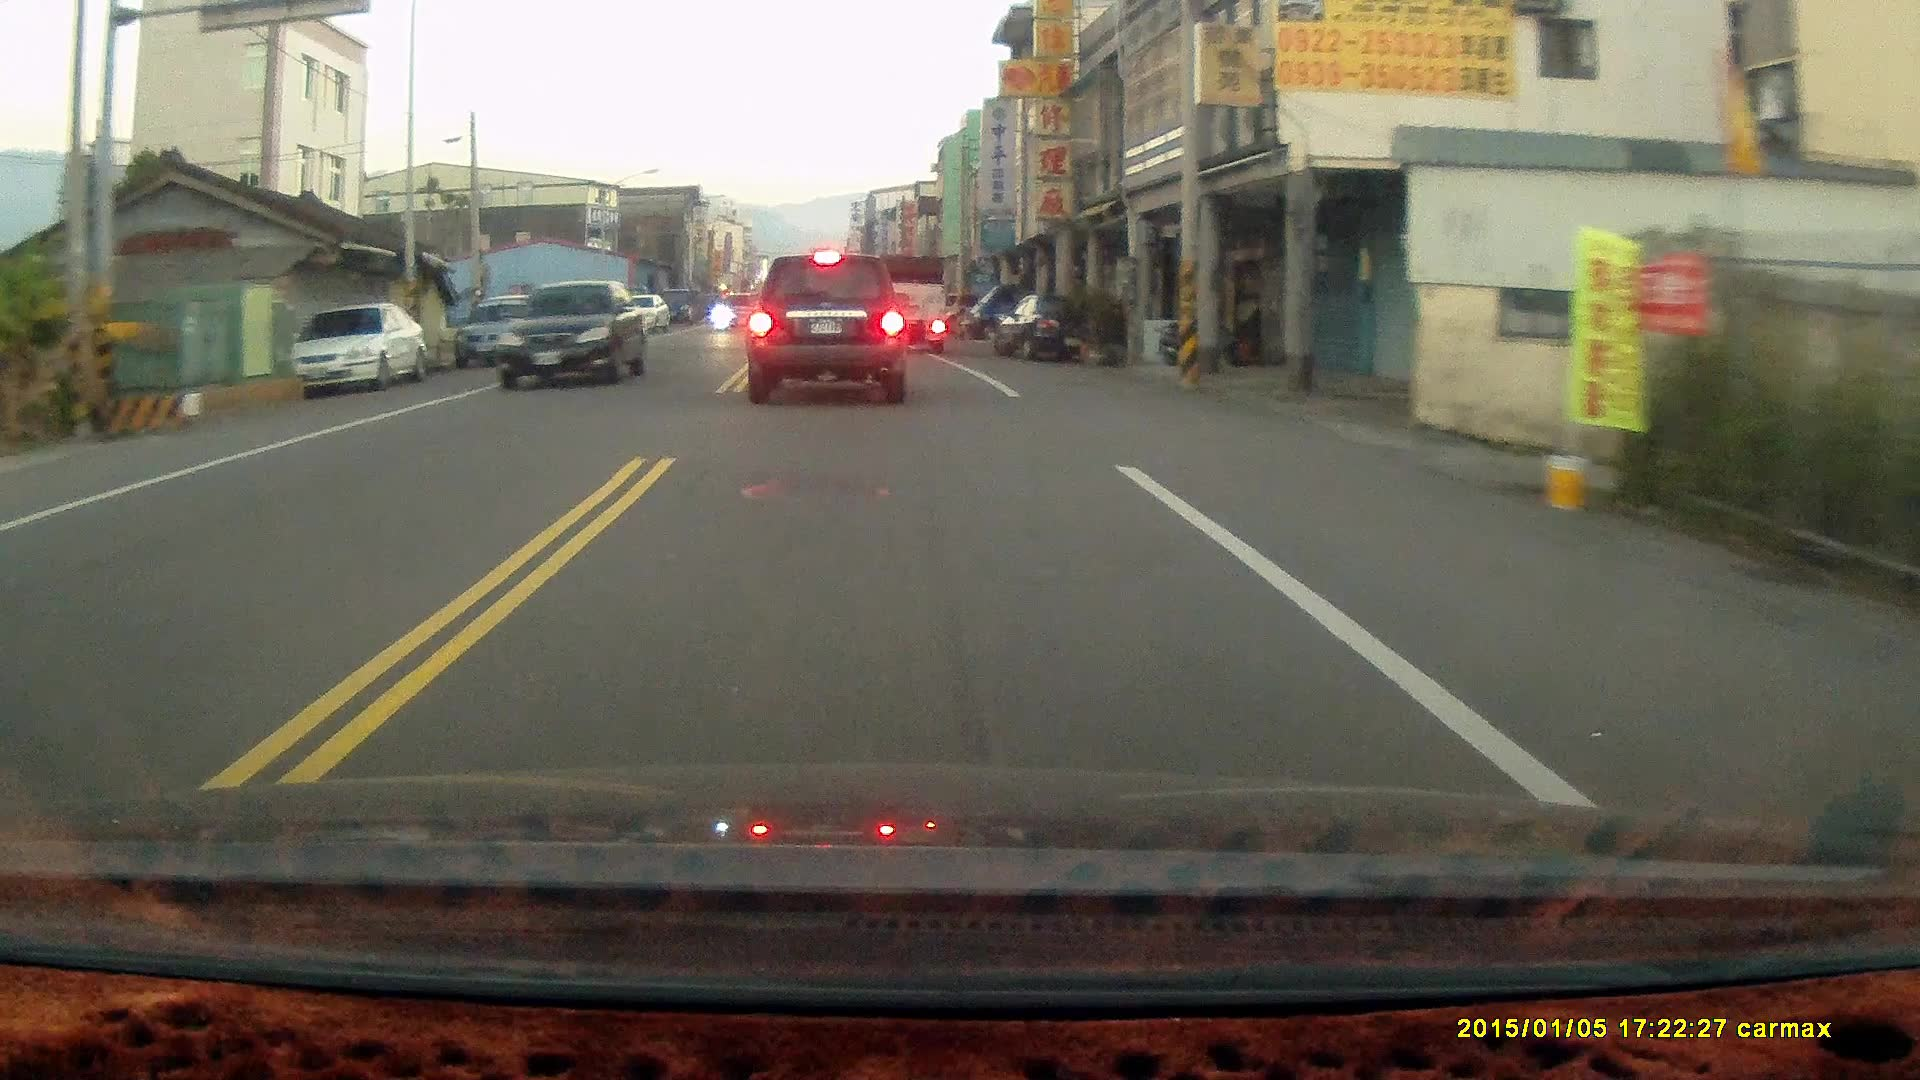vehicle: (749, 249, 914, 404), (498, 281, 650, 389), (289, 299, 431, 388), (1001, 291, 1113, 364), (873, 253, 949, 355), (462, 291, 560, 367), (615, 295, 673, 334)
